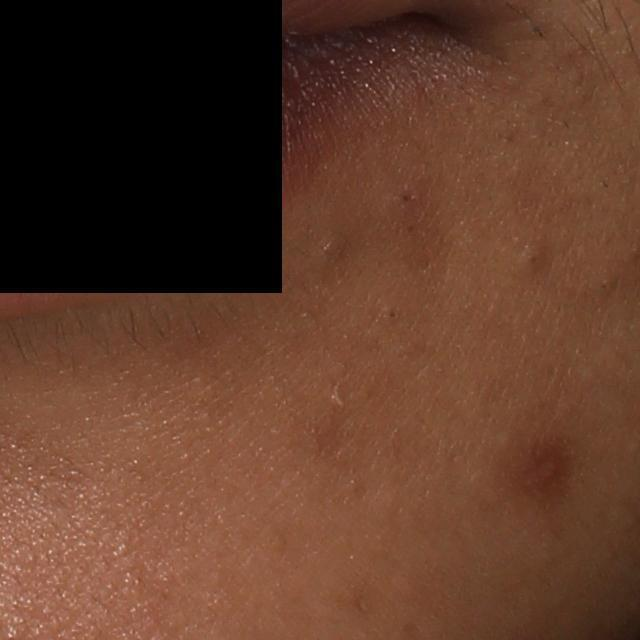comedo: (521, 240, 550, 274), (384, 306, 400, 322)
